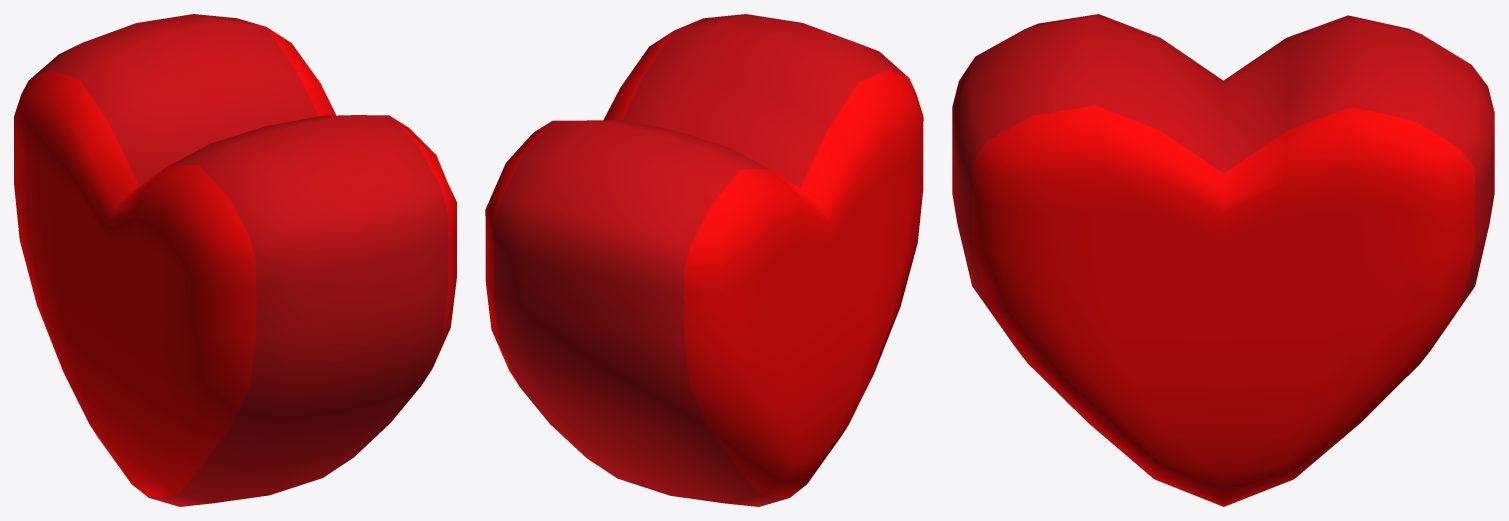
Rendered from PowerUpLife.fbx.
3 views of the same model, side by side, from view 1: azimuth 30°, elevation 25°; view 2: azimuth 150°, elevation 25°; view 3: azimuth 270°, elevation 25° (orthographic). The views are drawn at different scales.
Parts seen in each view (by area): view 1: Box001; view 2: Box001; view 3: Box001.
Part boxes in pixels (x1,y1,x2,y2): Box001: (14,14,456,506); Box001: (485,14,923,506); Box001: (952,14,1494,506).
Size of the model in its own units: 27.02 by 43.69 by 48.74.
1 material, 1 textured.
